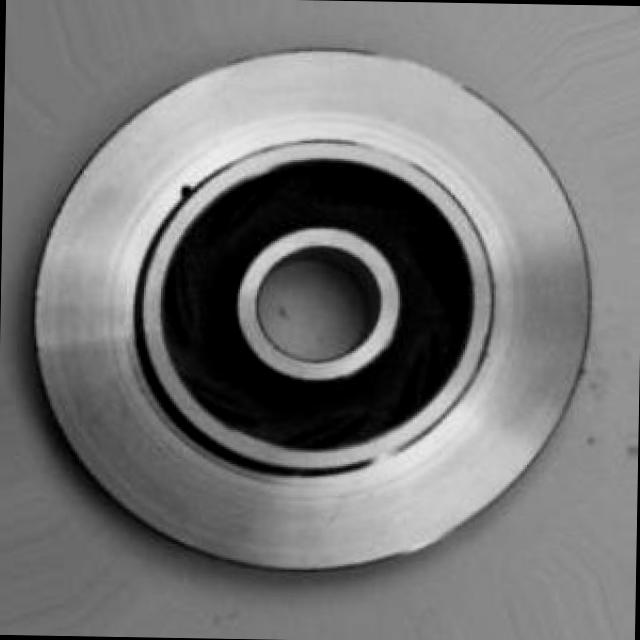Defect: (172, 174, 206, 199)
